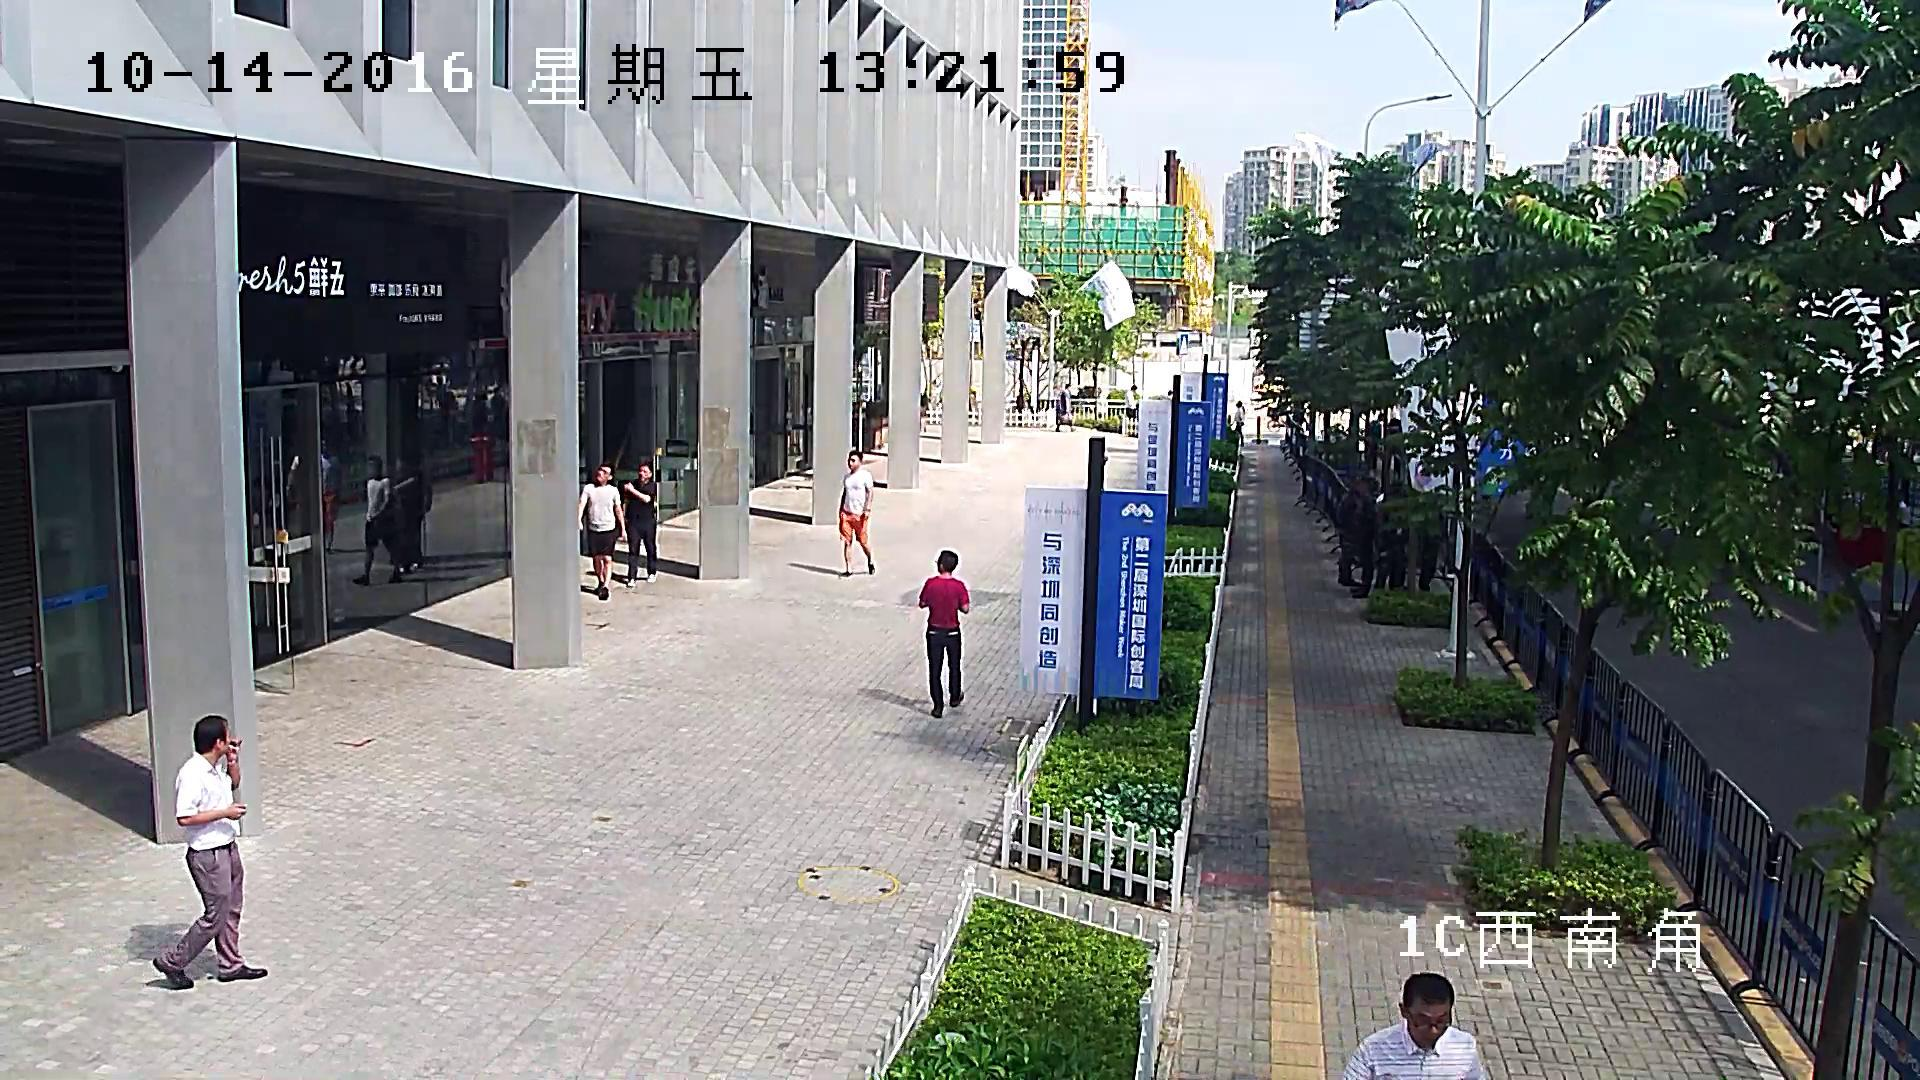person: (153, 715, 267, 987), (1343, 974, 1488, 1080), (919, 550, 968, 718), (577, 464, 627, 600), (352, 455, 402, 583), (392, 450, 433, 572), (839, 448, 875, 576), (623, 463, 657, 585), (1350, 478, 1375, 597), (320, 437, 342, 553), (1336, 493, 1360, 586), (1055, 383, 1075, 430), (1124, 384, 1136, 436), (1233, 400, 1244, 446)
